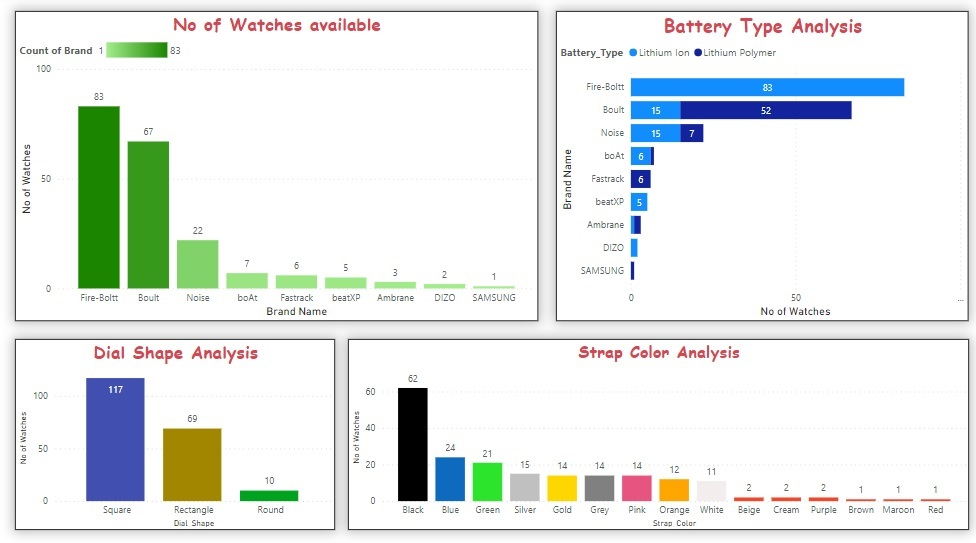

What the dashboard file says about the page in this screenshot:
{"tool":"powerbi","page":{"name":"Page 1","canvas":[1280,720],"ordinal":0},"visuals":[{"type":"columnChart","title":"No of Watches available","fields":{"Category":["Smart_watches.Brand"],"Y":["CountNonNull(Smart_watches.Brand)"]},"box":[19.2,19.2,684.7,405.6],"z":0},{"type":"barChart","title":"Battery Type Analysis","fields":{"Category":["Smart_watches.Brand"],"Y":["CountNonNull(Smart_watches.Battery_Type)"],"Series":["Smart_watches.Battery_Type"]},"box":[727.3,19.2,540.3,405.6],"z":1000},{"type":"columnChart","title":"Dial Shape Analysis","fields":{"Category":["Smart_watches.Dial_Shape"],"Y":["CountNonNull(Smart_watches.Dial_Shape)"]},"box":[19.2,449.6,419.3,250.2],"z":2000},{"type":"columnChart","title":"Strap Color Analysis","fields":{"Category":["Smart_watches.Strap_Color"],"Y":["CountNonNull(Smart_watches.Strap_Color)"]},"box":[455.1,449.6,812.5,250.2],"z":3000}]}

Visuals, with their boxes in screenshot pixels (x1, y1, x2, y2), scaled from the page's 1280x720 canvas onto the 976x543 screenshot:
"No of Watches available" columnChart: (left=15, top=14, right=537, bottom=320)
"Battery Type Analysis" barChart: (left=555, top=14, right=967, bottom=320)
"Dial Shape Analysis" columnChart: (left=15, top=339, right=334, bottom=528)
"Strap Color Analysis" columnChart: (left=347, top=339, right=967, bottom=528)
